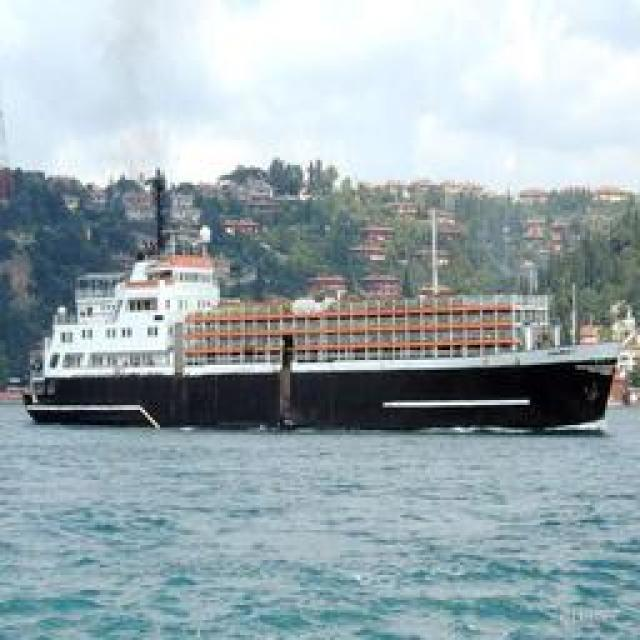ship2: (27, 258, 621, 432)
